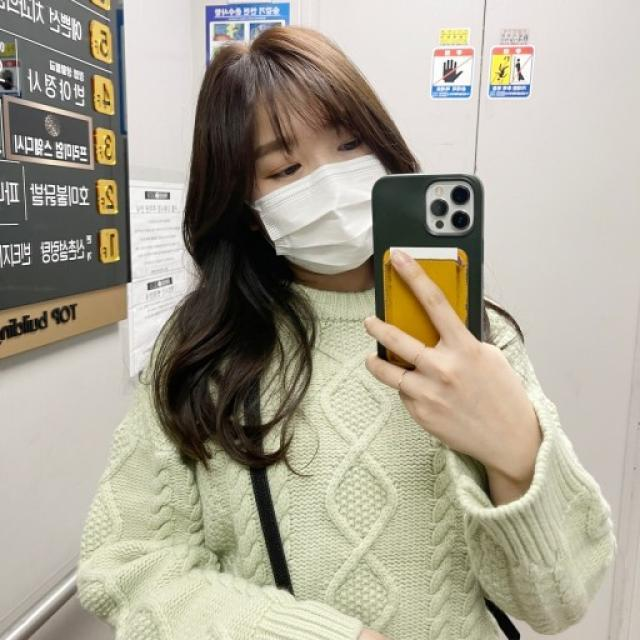phone: (372, 173, 484, 384)
